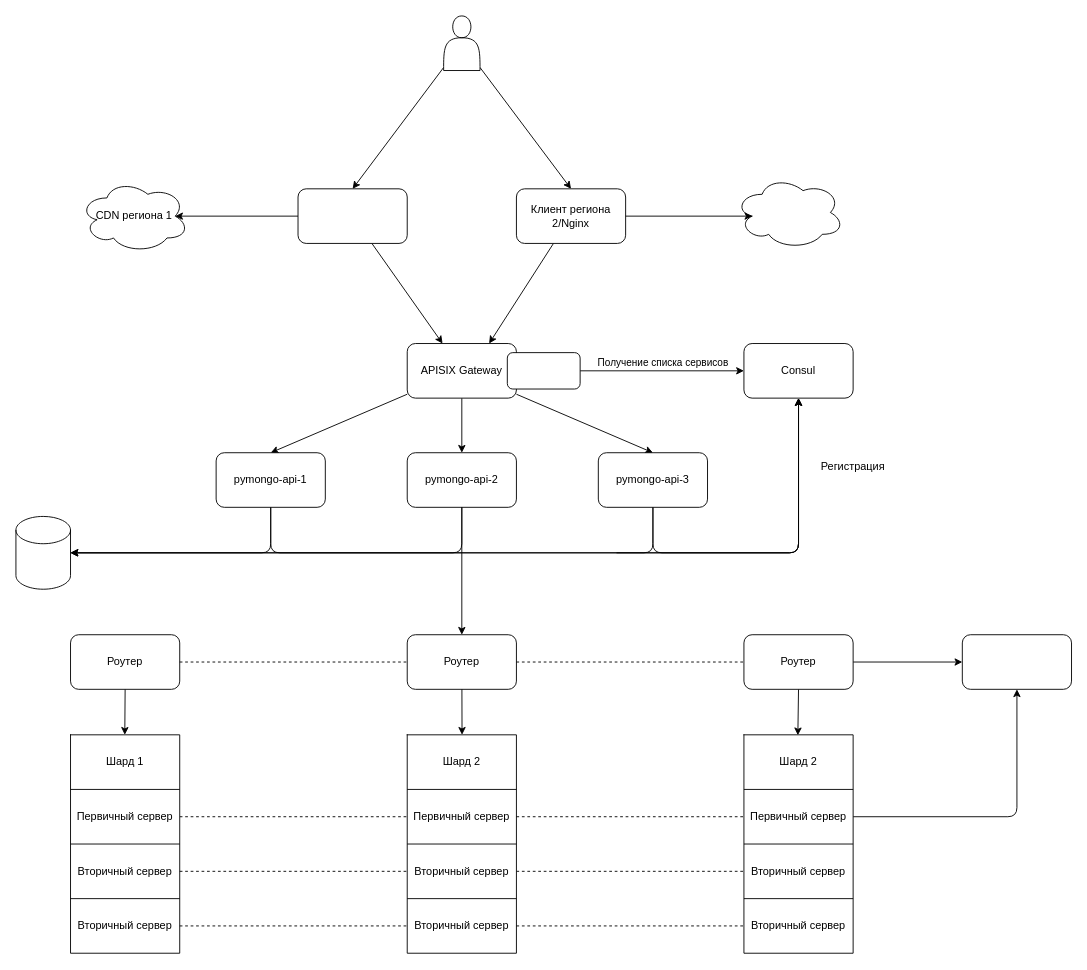
This 1087x970 diagram has some shape labels left out. Here are the shapes that lost their labels. From the top down, the box of each, then its label:
(297, 188, 407, 243): Клиент региона 1/Nginx
(734, 175, 844, 249): CDN региона 2
(506, 352, 580, 389): consul_kv
(15, 516, 71, 589): Redis
(961, 634, 1072, 689): Конфигурационный сервер
